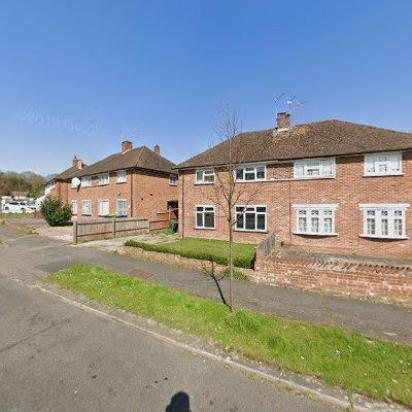stationary-car-offstreet: (6, 201, 36, 211)
